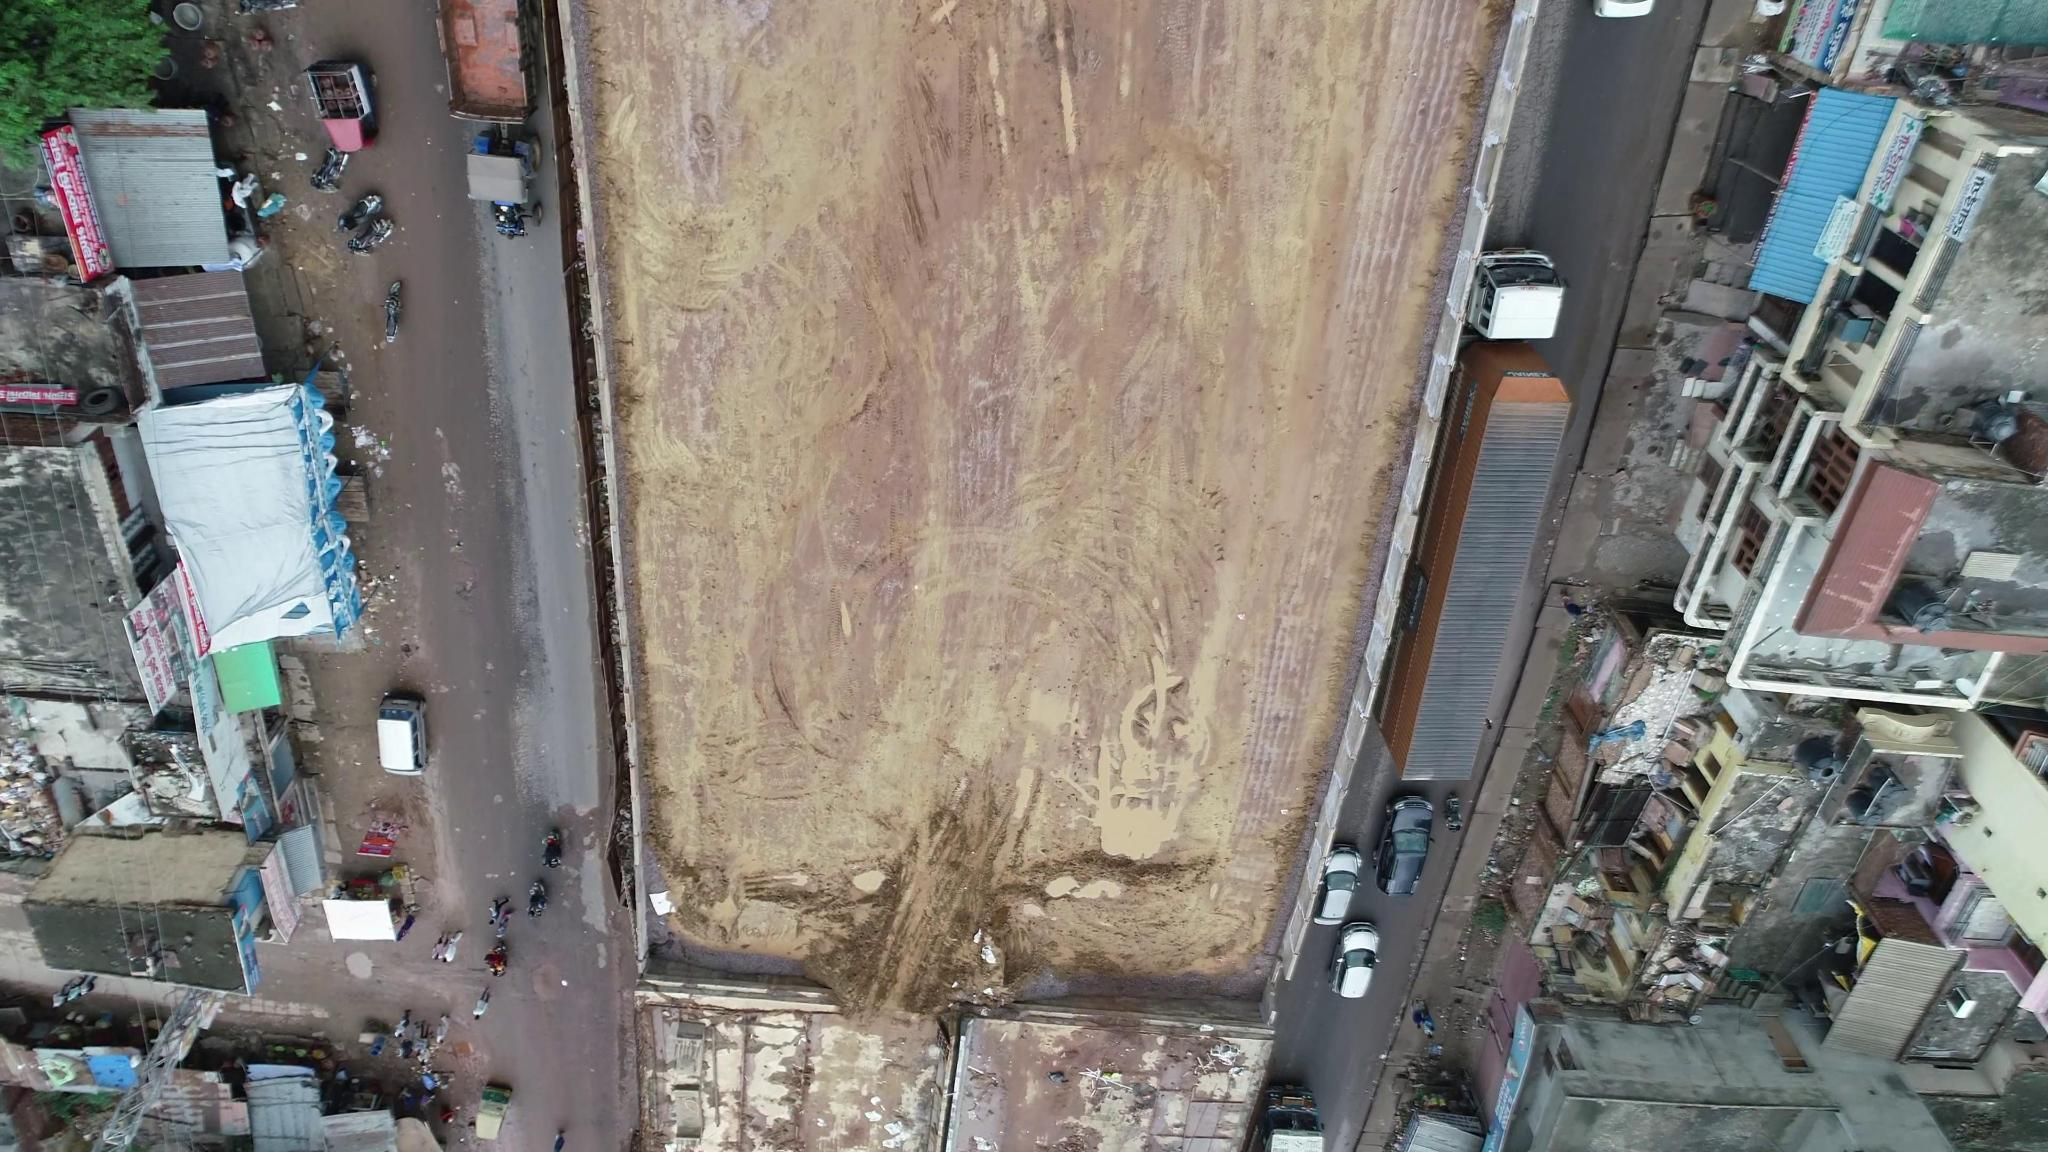Potholes: (484, 342, 506, 447)
